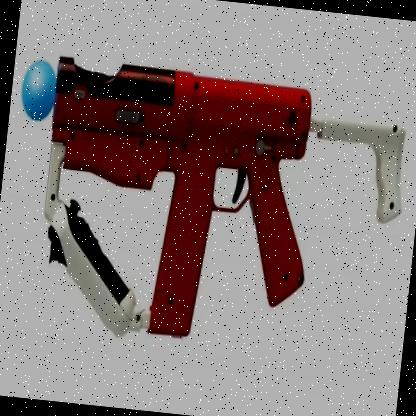rifle: (2, 34, 412, 344)
